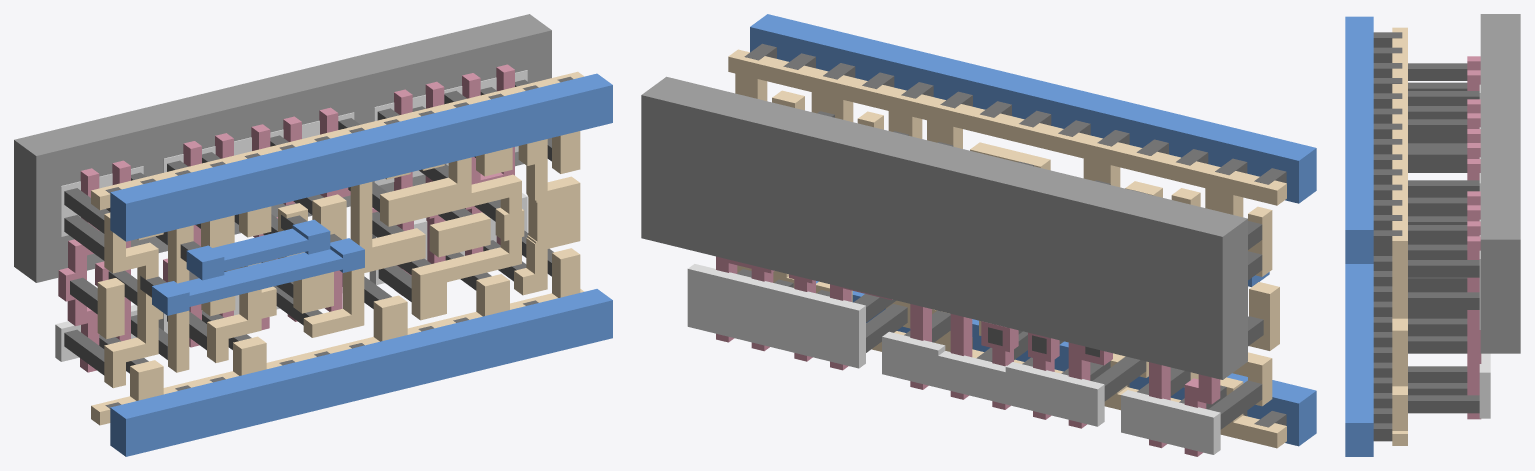
File: sky130_fd_sc_hd__dlrtn_2.gds.gltf
3 views of the same model, side by side, from view 1: azimuth 30°, elevation 25°; view 2: azimuth 150°, elevation 25°; view 3: azimuth 270°, elevation 25° (orthographic). The views are drawn at different scales.
Visible parts, largest first — view 1: sky130_fd_sc_hd__dlrtn_2_met1, sky130_fd_sc_hd__dlrtn_2_li1, sky130_fd_sc_hd__dlrtn_2_nwell, sky130_fd_sc_hd__dlrtn_2_licon, sky130_fd_sc_hd__dlrtn_2_poly, sky130_fd_sc_hd__dlrtn_2_diff, sky130_fd_sc_hd__dlrtn_2_mcon; view 2: sky130_fd_sc_hd__dlrtn_2_nwell, sky130_fd_sc_hd__dlrtn_2_li1, sky130_fd_sc_hd__dlrtn_2_diff, sky130_fd_sc_hd__dlrtn_2_met1, sky130_fd_sc_hd__dlrtn_2_poly, sky130_fd_sc_hd__dlrtn_2_licon, sky130_fd_sc_hd__dlrtn_2_mcon; view 3: sky130_fd_sc_hd__dlrtn_2_licon, sky130_fd_sc_hd__dlrtn_2_nwell, sky130_fd_sc_hd__dlrtn_2_met1, sky130_fd_sc_hd__dlrtn_2_mcon, sky130_fd_sc_hd__dlrtn_2_li1, sky130_fd_sc_hd__dlrtn_2_poly, sky130_fd_sc_hd__dlrtn_2_diff.
Boxes of the visible parts, left/top/right/bottom form: sky130_fd_sc_hd__dlrtn_2_met1: left=110, top=73, right=612, bottom=456; sky130_fd_sc_hd__dlrtn_2_li1: left=91, top=71, right=584, bottom=425; sky130_fd_sc_hd__dlrtn_2_nwell: left=14, top=14, right=551, bottom=282; sky130_fd_sc_hd__dlrtn_2_licon: left=64, top=79, right=553, bottom=375; sky130_fd_sc_hd__dlrtn_2_poly: left=58, top=64, right=514, bottom=372; sky130_fd_sc_hd__dlrtn_2_diff: left=55, top=70, right=527, bottom=361; sky130_fd_sc_hd__dlrtn_2_mcon: left=105, top=76, right=573, bottom=408; sky130_fd_sc_hd__dlrtn_2_nwell: left=641, top=76, right=1247, bottom=379; sky130_fd_sc_hd__dlrtn_2_li1: left=728, top=49, right=1286, bottom=448; sky130_fd_sc_hd__dlrtn_2_diff: left=687, top=264, right=1220, bottom=454; sky130_fd_sc_hd__dlrtn_2_met1: left=750, top=14, right=1316, bottom=446; sky130_fd_sc_hd__dlrtn_2_poly: left=716, top=256, right=1220, bottom=456; sky130_fd_sc_hd__dlrtn_2_licon: left=737, top=111, right=1263, bottom=429; sky130_fd_sc_hd__dlrtn_2_mcon: left=744, top=43, right=1286, bottom=427; sky130_fd_sc_hd__dlrtn_2_licon: left=1408, top=63, right=1479, bottom=413; sky130_fd_sc_hd__dlrtn_2_nwell: left=1480, top=14, right=1520, bottom=353; sky130_fd_sc_hd__dlrtn_2_met1: left=1345, top=16, right=1373, bottom=456; sky130_fd_sc_hd__dlrtn_2_mcon: left=1373, top=32, right=1402, bottom=441; sky130_fd_sc_hd__dlrtn_2_li1: left=1392, top=27, right=1407, bottom=445; sky130_fd_sc_hd__dlrtn_2_poly: left=1467, top=56, right=1481, bottom=419; sky130_fd_sc_hd__dlrtn_2_diff: left=1479, top=84, right=1490, bottom=418.
Size of the model in its own units: 6.82 by 3.2 by 2.24.
